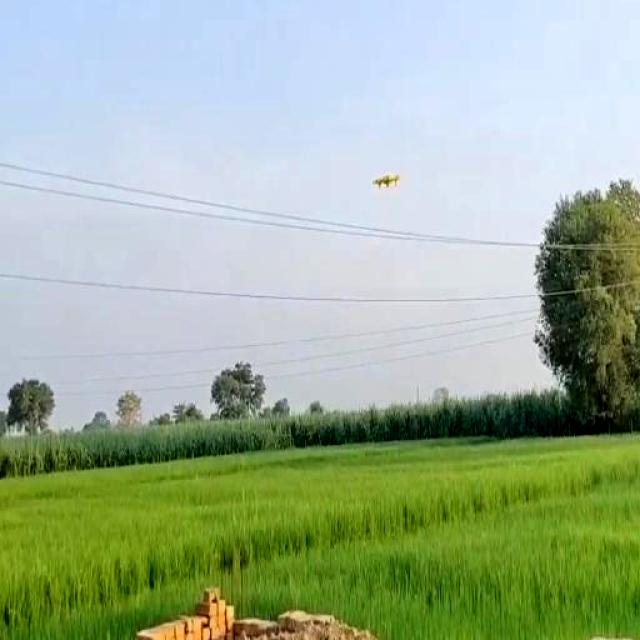bird: (369, 161, 405, 196)
